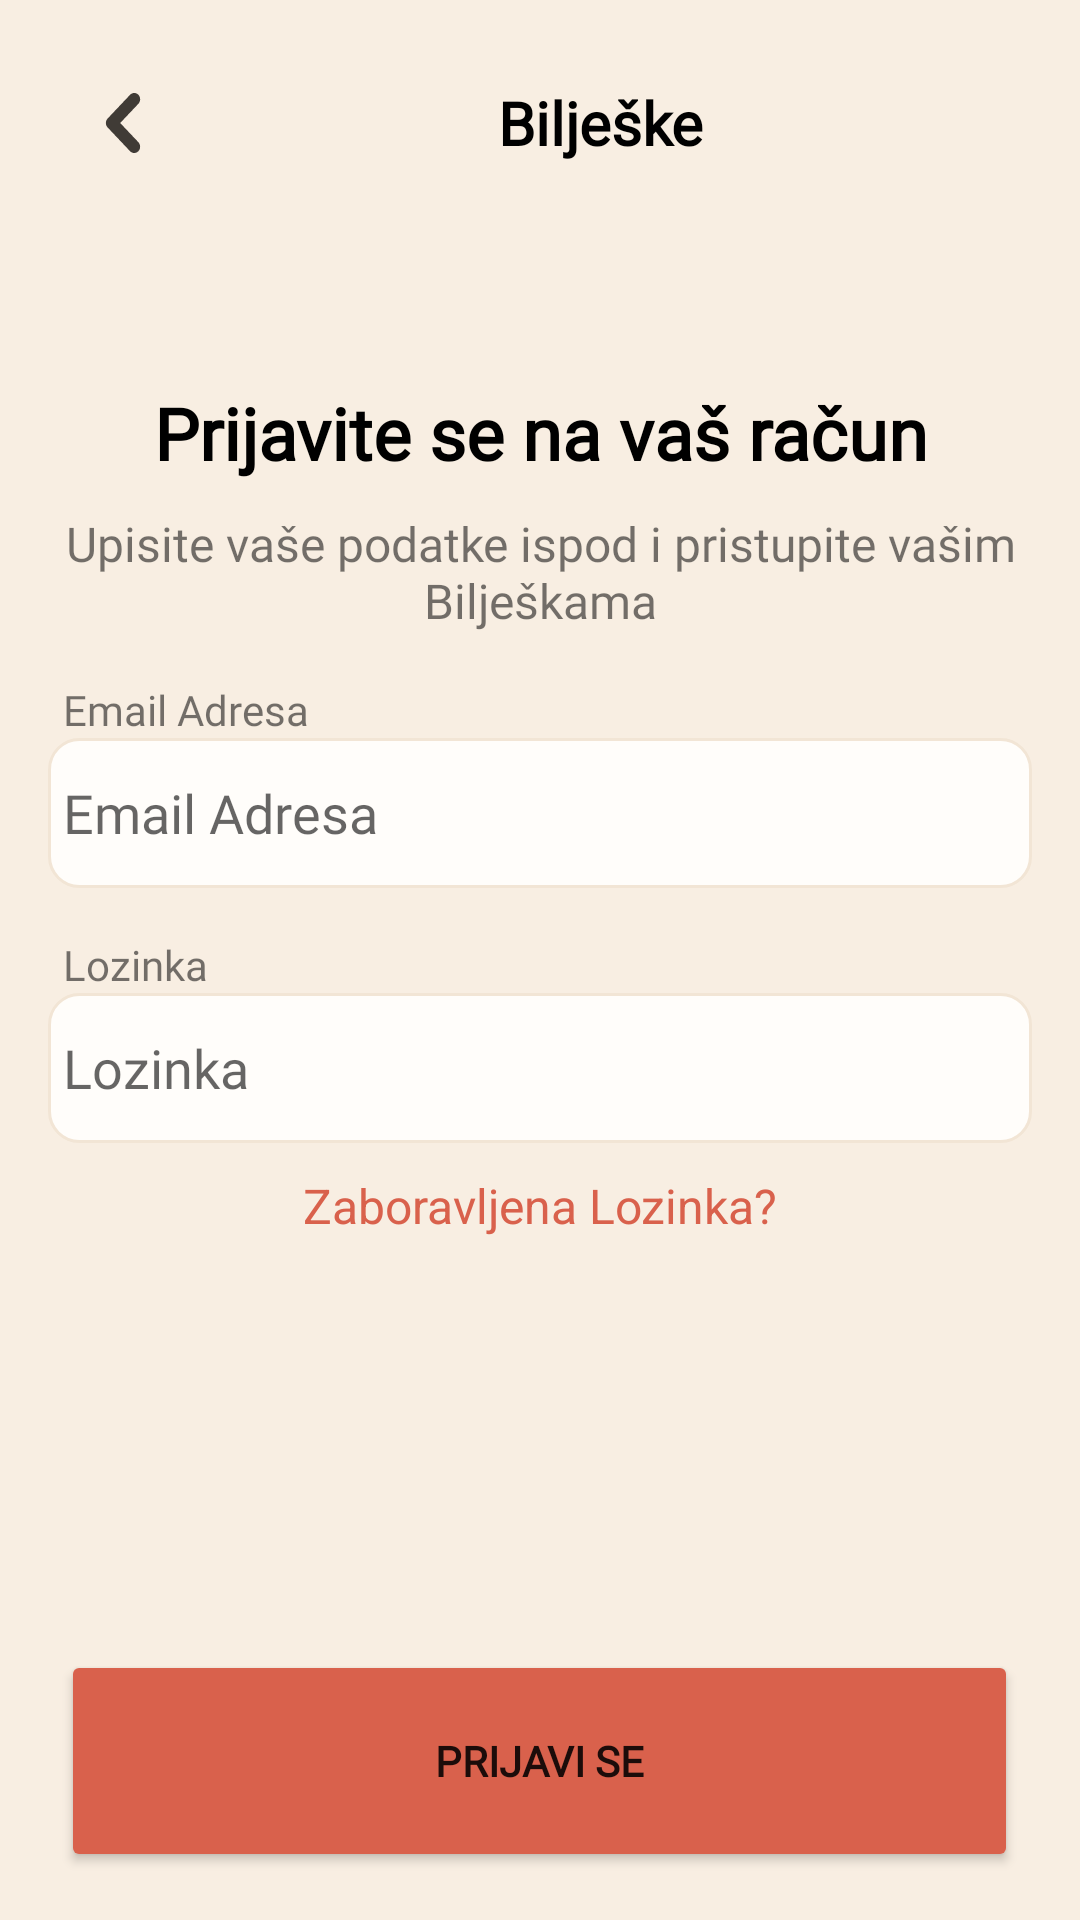

Locate icon controls on the screen. Image size 1080 × 1920, boxes as (x1, y1, x2, y2).
back: (106, 93, 141, 153)
